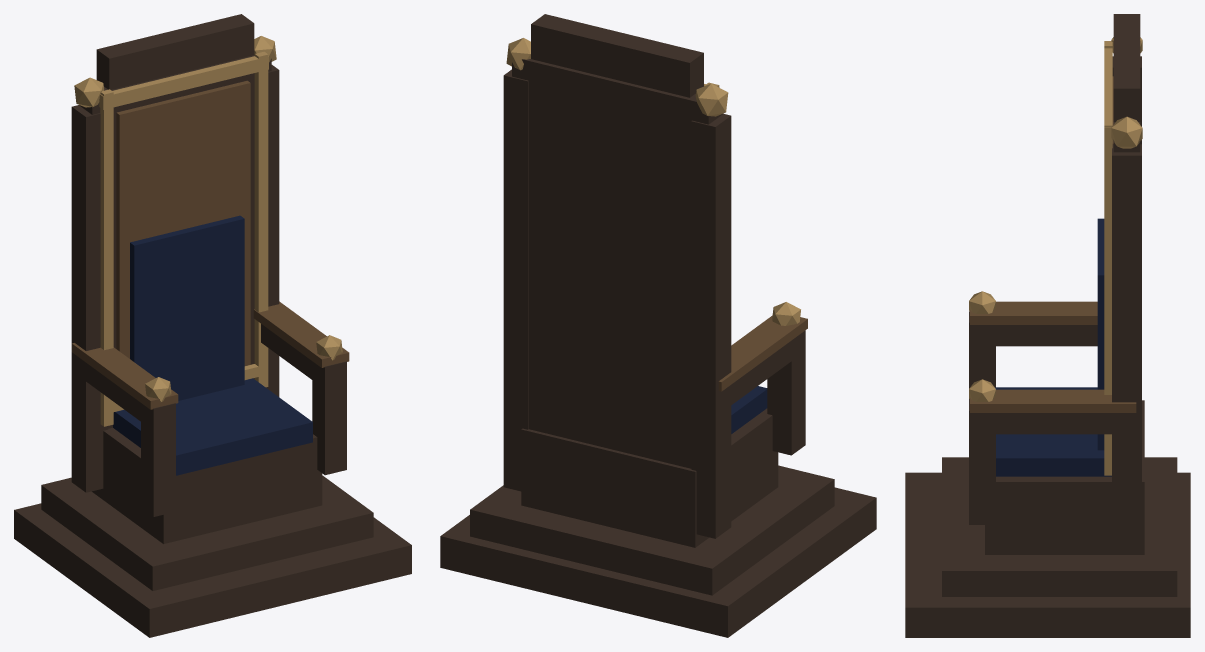
Rendered from throne.glb.
The picture shows the model from 3 angles, left to right: view 1: azimuth 30°, elevation 25°; view 2: azimuth 150°, elevation 25°; view 3: azimuth 270°, elevation 25°; orthographic projection. The views are drawn at different scales.
Visible parts, largest first — view 1: throne; view 2: throne; view 3: throne.
Boxes of the visible parts, bbox=[...] form: throne: bbox=[14, 14, 411, 637]; throne: bbox=[440, 14, 876, 637]; throne: bbox=[905, 14, 1190, 637].
Bounding box in the file's own units: 1.9 × 3.41 × 1.7.
